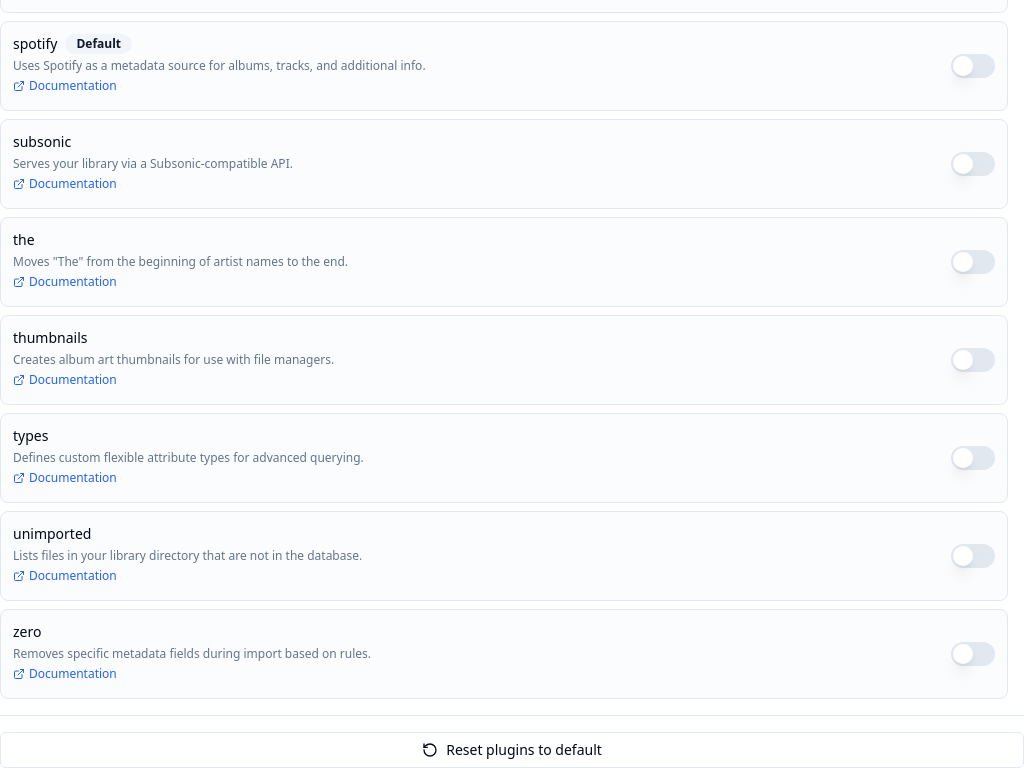
it: PluginManager › reset functionality › should show confirmation dialog when reset button clicked
(page scrolled)
Click the button "Reset plugins to default" at (512, 750), box [0,732,1023,767]
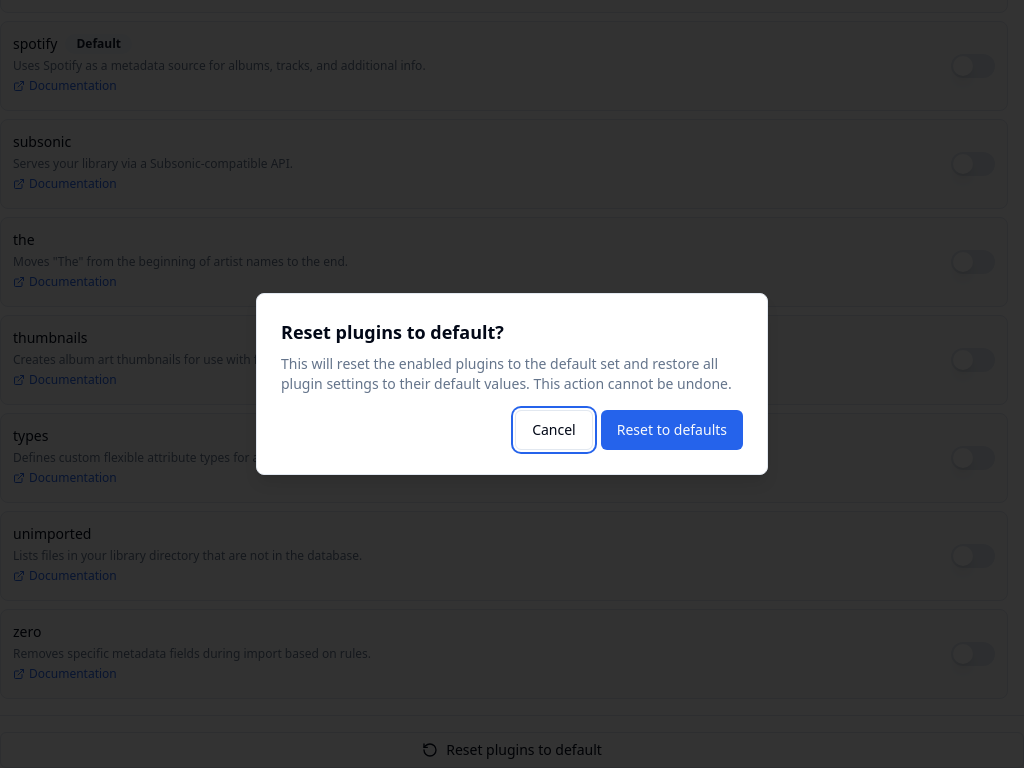
Now the heading "Reset plugins to default?" is shown, box [281,320,504,344]
